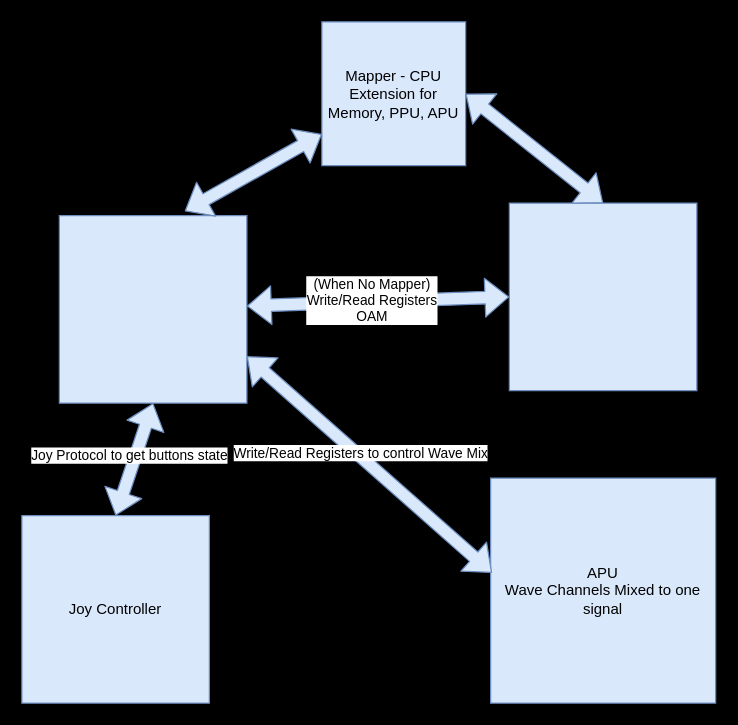
This 738x725 diagram has some shape labels left out. Each missing label, with the centre of its shape:
CPU: pixel 152 308
PPU Synchronized VRAM hblanks and vblanks: pixel 602 296
